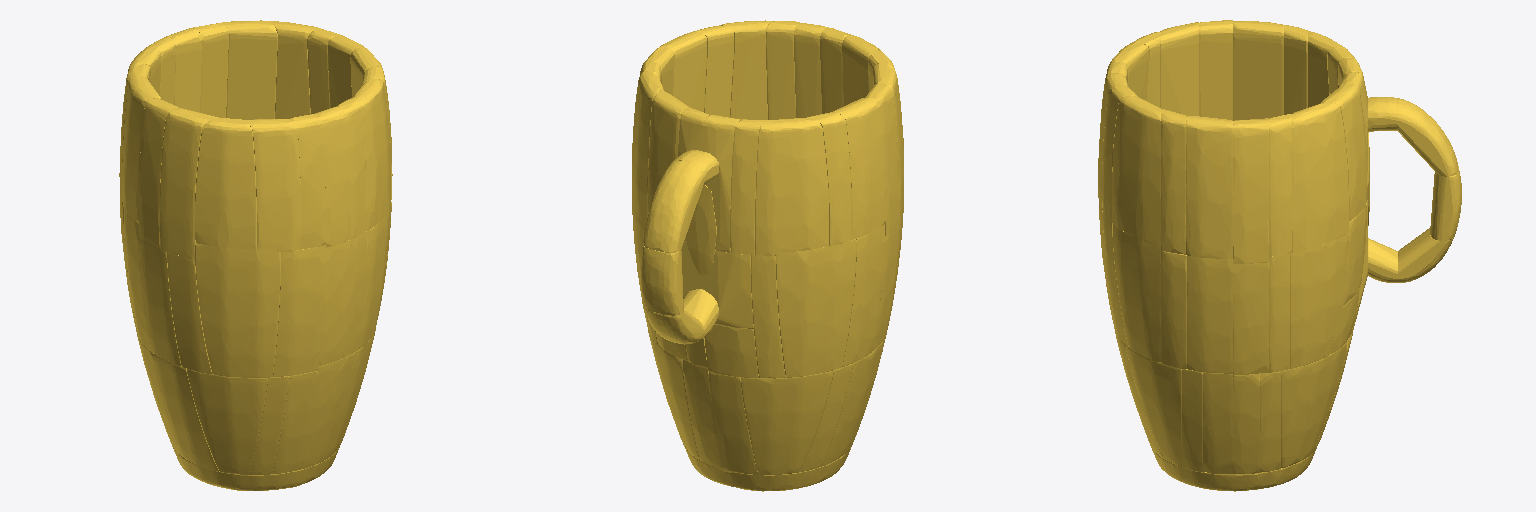
robot.urdf — 579.urdf:
<?xml version="1.0" ?>
<robot name="579.urdf">
	<link name="baseLink">
		<inertial>
			<origin rpy="0 0 0" xyz="0 0 0"/>
				<mass value="0.1"/>
				<inertia ixx="6e-5" ixy="0" ixz="0" iyy="6e-5" iyz="0" izz="6e-5"/>
		</inertial>
		<visual>
			<origin rpy="0 0 0" xyz="0 0 0"/>
			<geometry>
				<mesh filename="40_decom_wt.obj" scale="1.03 1.03 1.09"/>
			</geometry>
			<material name="yellow">
				<color rgba="0.98 0.84 0.35 1"/>
			</material>
		</visual>
		<collision>
			<origin rpy="0 0 0" xyz="0 0 0"/>
			<geometry>
				<mesh filename="40_decom_wt.obj" scale="1.03 1.03 1.09"/>
			</geometry>
		</collision>
	</link>
</robot>

--- What the picture shows (computed from the rendered views, not written in the file) ---
Views: 3 orthographic renders of the robot side by side, from view 1: azimuth 30°, elevation 25°; view 2: azimuth 150°, elevation 25°; view 3: azimuth 270°, elevation 25°.
Model 579.urdf with 1 links and 0 joints (none), rooted at baseLink, posed every joint at zero.
Links seen in each view (by area): view 1: baseLink; view 2: baseLink; view 3: baseLink.
Link boxes in pixels (bbox=[...]): baseLink: bbox=[119, 20, 392, 490]; baseLink: bbox=[632, 20, 903, 491]; baseLink: bbox=[1098, 20, 1461, 491].
Size in the robot's own frame: 0.0991 by 0.1325 by 0.1568 metres.
1 mesh visuals loaded from 1 distinct referenced files (1 OBJ).